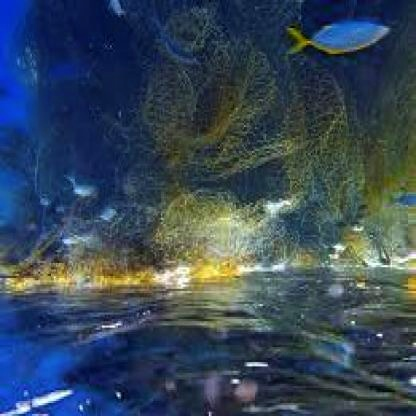net: (136, 6, 348, 244)
